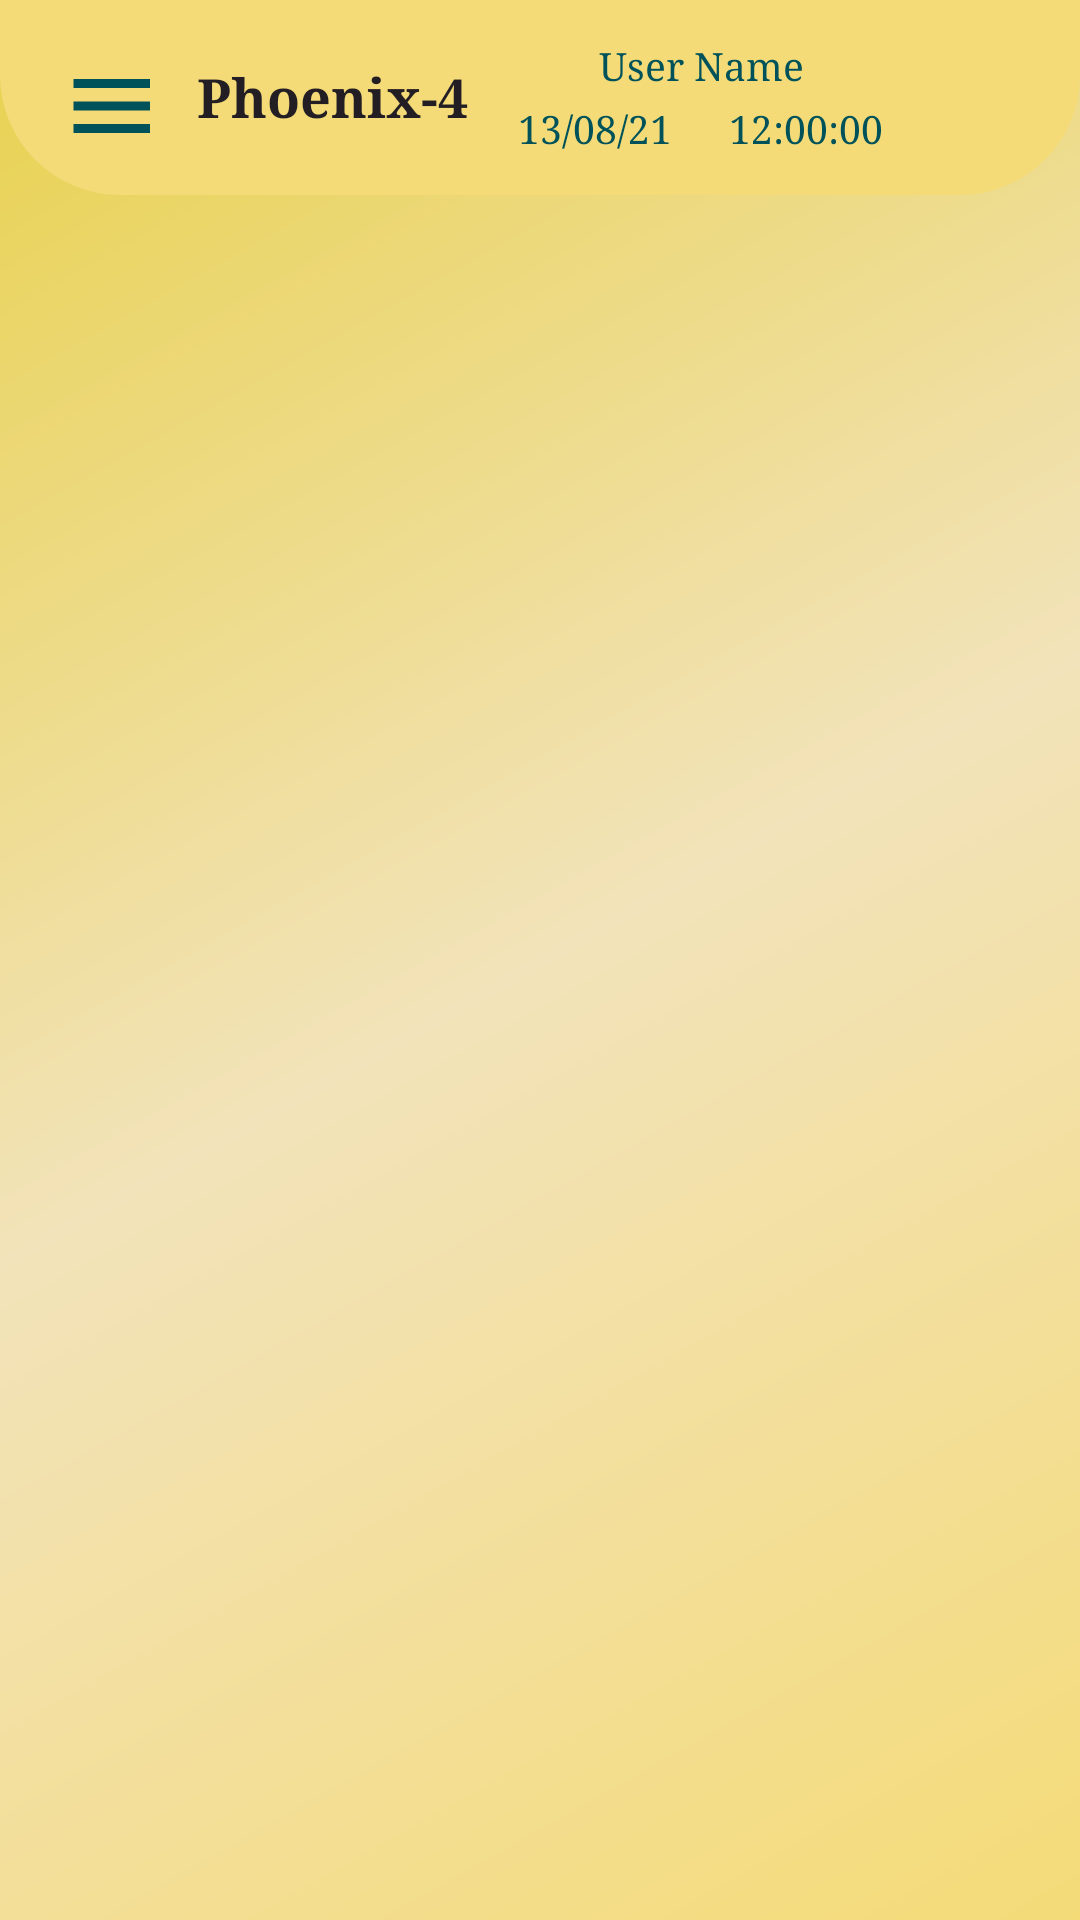

Icon click points for this 1080px×1920px phone screenshot, format (x=x, y=y):
menu: (x=111, y=106)
